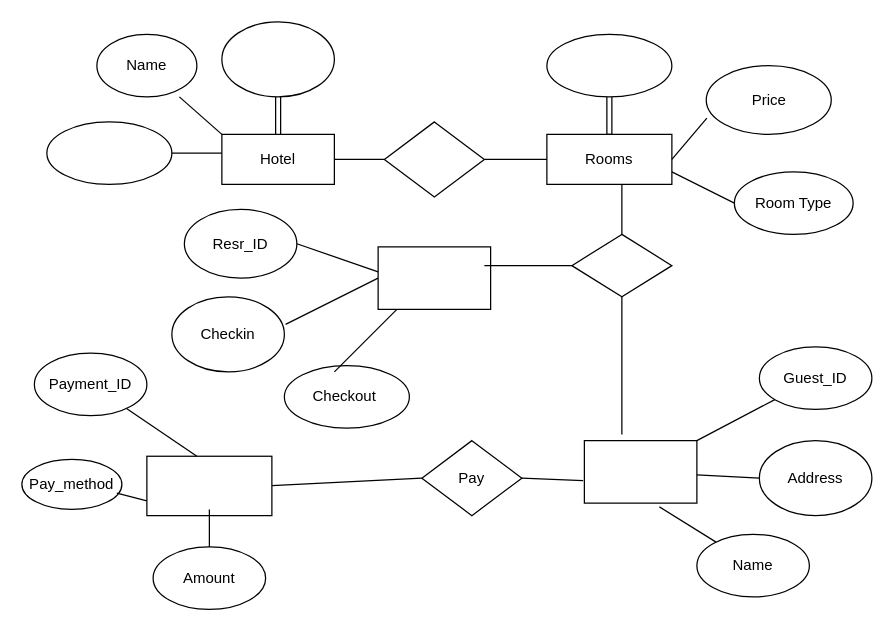
Some shapes in this 894 by 631 pixel diagram are drawn without their labels. Here are the shapes that lost their labels. From the top down, the centre of each, then its label:
[277,59]: Hotel_ID
[609,65]: Room number
[109,152]: Location
[433,159]: Has
[434,277]: Reservation
[621,265]: Request
[209,485]: Payment
[640,471]: Guest
